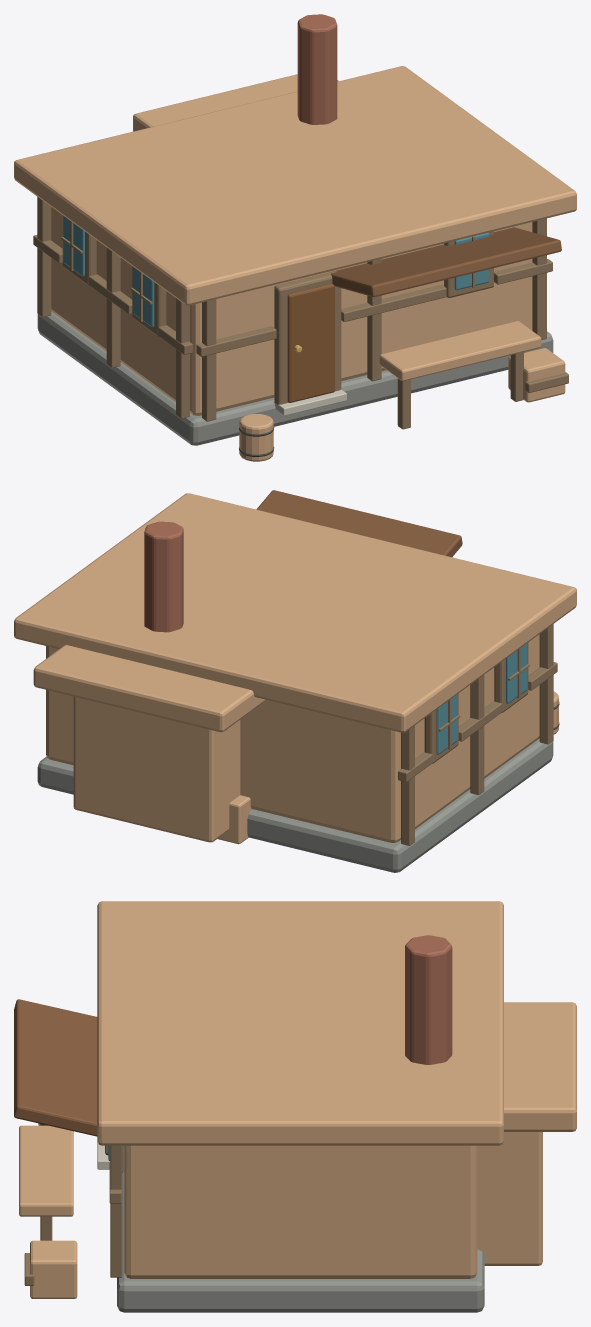
Rendered from arid-artisan-3.glb.
3 renders of one model, top to bottom at view 1: azimuth 30°, elevation 25°; view 2: azimuth 150°, elevation 25°; view 3: azimuth 270°, elevation 25°, orthographic. The views are drawn at different scales.
Parts seen in each view (by area): view 1: Adobe cream, Adobe fieldstone, Palm beams, Foundation stone, Adobe wood, Wood shingles, Door oak, Chimney brick, Blue glass, Cut limestone; view 2: Adobe cream, Adobe fieldstone, Foundation stone, Palm beams, Wood shingles, Chimney brick, Blue glass, Adobe wood; view 3: Adobe cream, Adobe fieldstone, Foundation stone, Wood shingles, Adobe wood, Chimney brick, Palm beams.
Part boxes in pixels (x1,y1,x2,y2): Adobe cream: (14,66,576,305); Adobe fieldstone: (51,207,532,415); Palm beams: (33,197,568,429); Foundation stone: (37,311,553,445); Adobe wood: (239,321,565,461); Wood shingles: (329,227,561,297); Door oak: (287,284,334,402); Chimney brick: (297,14,337,124); Blue glass: (63,216,489,327); Cut limestone: (273,389,346,415); Adobe cream: (14,493,576,732); Adobe fieldstone: (46,634,539,842); Foundation stone: (37,738,553,872); Palm beams: (398,624,557,845); Wood shingles: (256,490,462,557); Chimney brick: (144,521,183,632); Blue glass: (436,643,527,754); Adobe wood: (217,691,558,844); Adobe cream: (97,901,576,1145); Adobe fieldstone: (124,1132,542,1278); Foundation stone: (117,1146,484,1312); Wood shingles: (14,999,97,1136); Adobe wood: (19,1123,77,1298); Chimney brick: (405,935,452,1064); Palm beams: (24,1145,123,1285).
Bounding box in the file's own units: 4.34 × 2.83 × 4.63.
